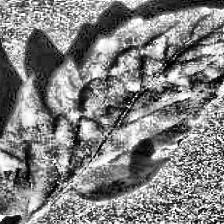Anthracnose Fruit Rot: (119, 111, 171, 150)
